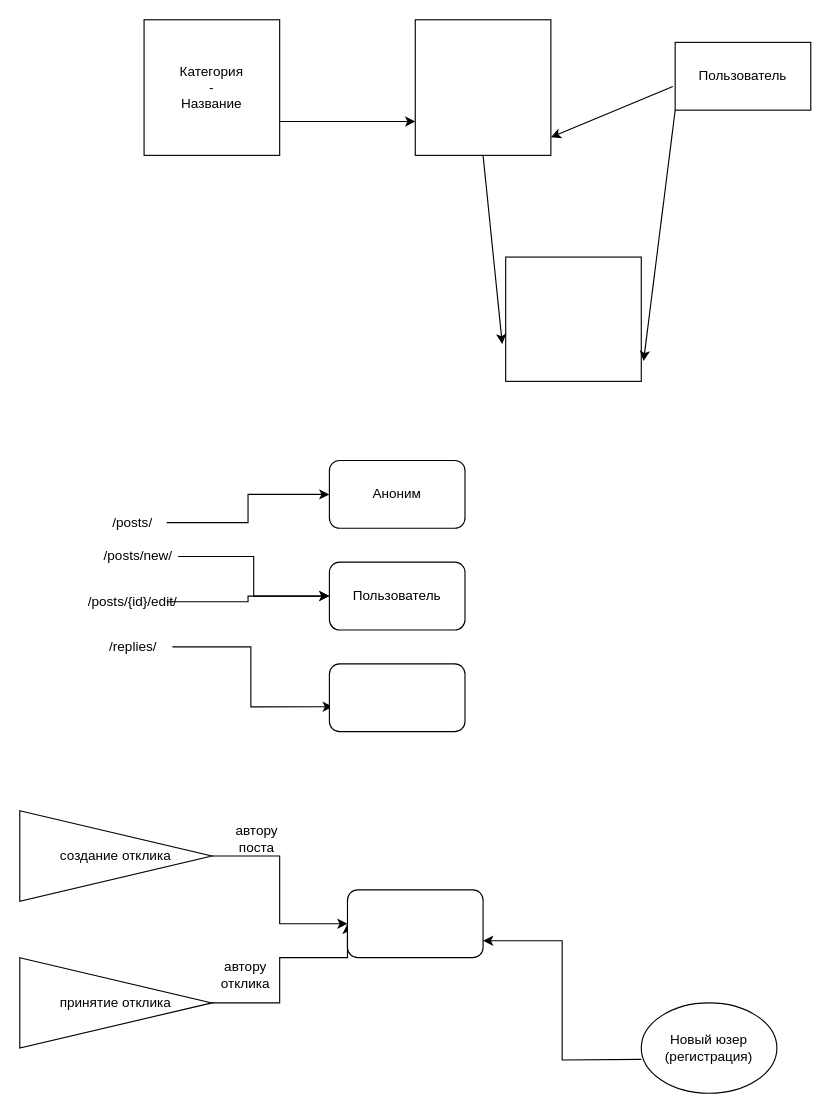
Image size: 831x1113. Some labels were removed from this diagram. The centre of each missing label's shape, as x and y in pixels:
"Автор" belongs at (x=396, y=697).
"Объявление - Заголовок Текст _Категория _Автор" belongs at (x=482, y=87).
"Отклик - Текст _Объявление _Пользователь" belongs at (x=573, y=318).
"отправить емейл" belongs at (x=414, y=923).
